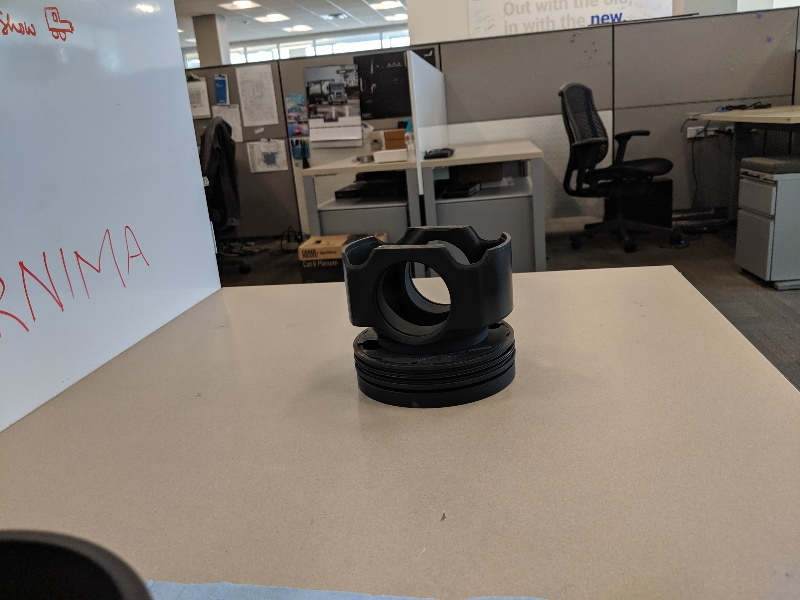piston: (325, 218, 533, 413)
